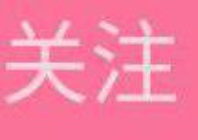TextView: (1, 1, 197, 139)
